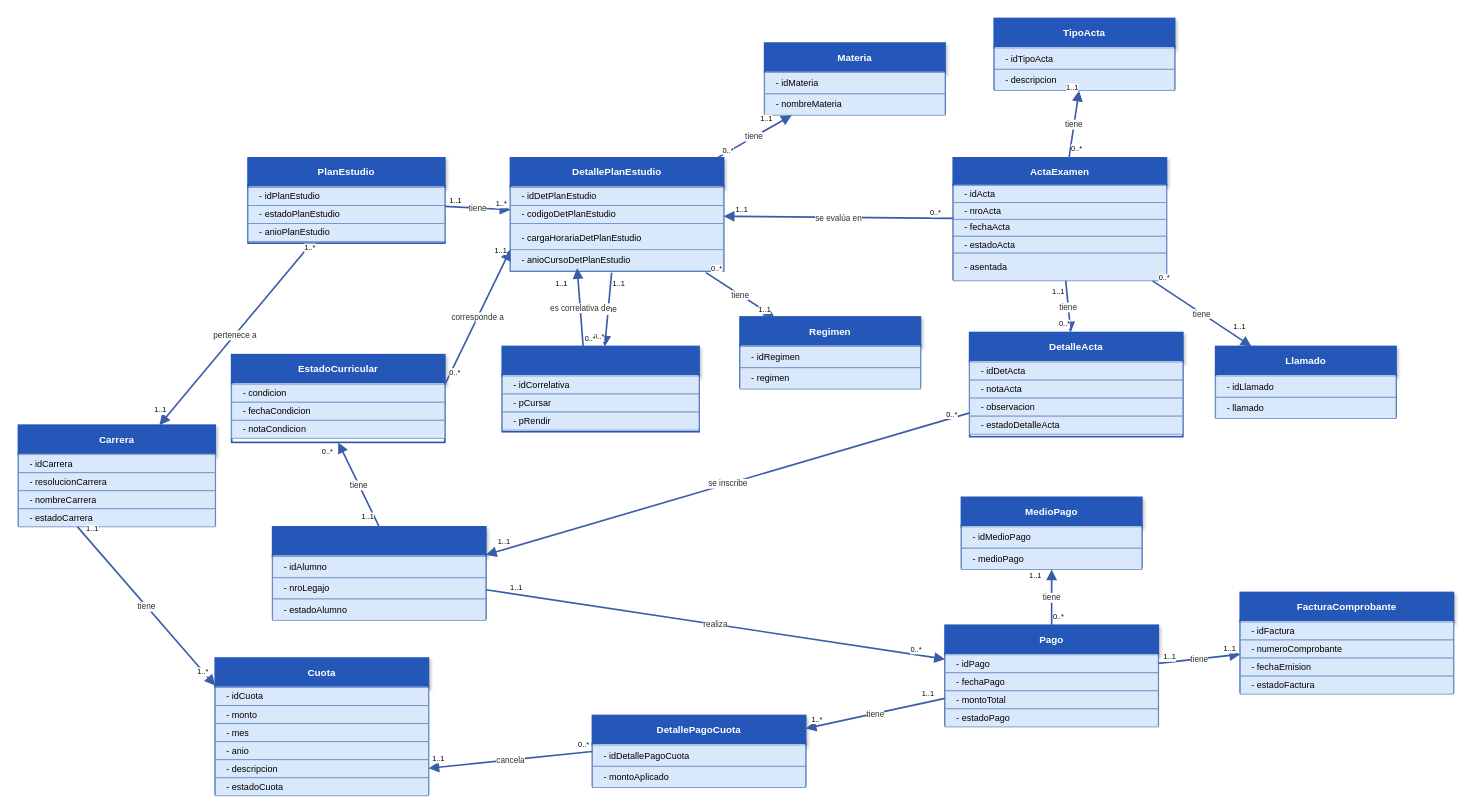
Image size: 1473x810. Some labels were removed from this diagram. Here are the shapes that lost their labels. From the top down, the centre of each, then its label:
At [601,362]: "Correlativa".
At [379,542]: "Alumno".
